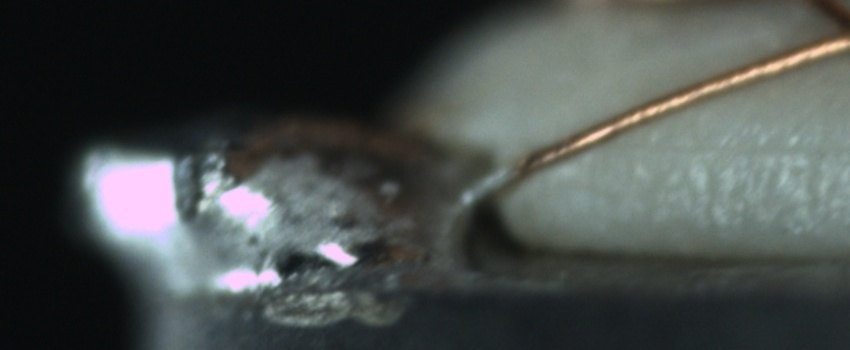DL: (624, 117, 842, 175)
